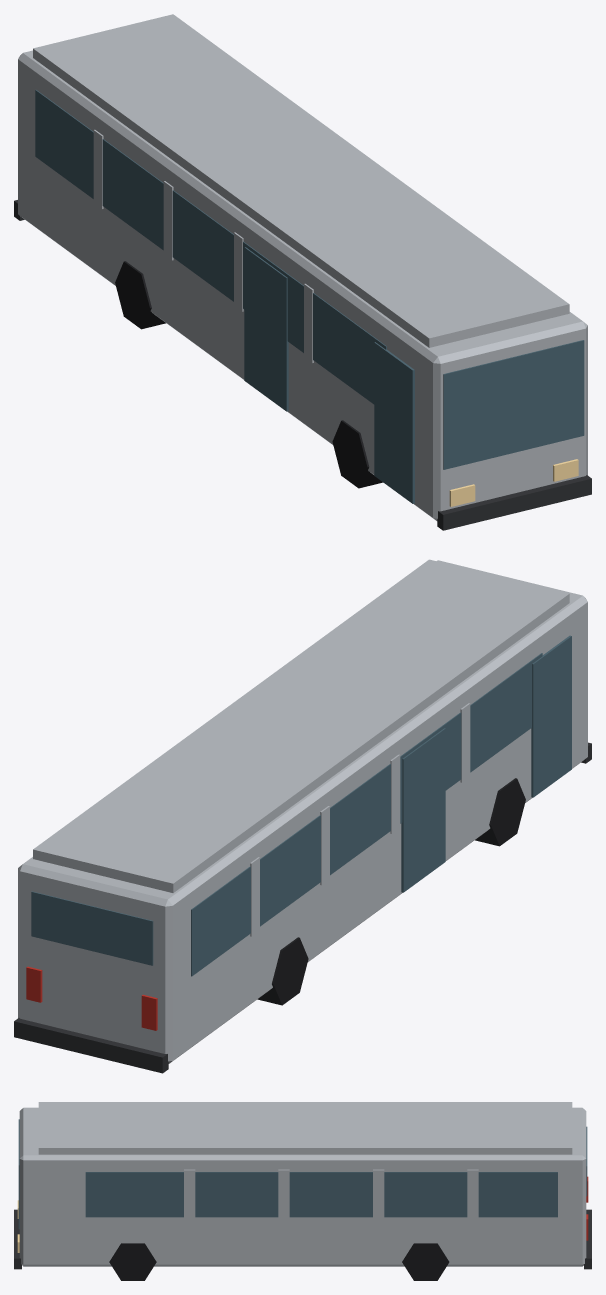
Rendered from bus-ambient.glb.
3 views of the same model, one above another, from view 1: azimuth 30°, elevation 25°; view 2: azimuth 150°, elevation 25°; view 3: azimuth 270°, elevation 25° (orthographic). The views are drawn at different scales.
Visible parts, largest first — view 1: bus-ambient-0, bus-ambient-1, bus-ambient-5, bus-ambient-4, bus-ambient-2; view 2: bus-ambient-0, bus-ambient-1, bus-ambient-5, bus-ambient-4, bus-ambient-3; view 3: bus-ambient-0, bus-ambient-1, bus-ambient-5, bus-ambient-4.
Boxes of the visible parts, box(x1,y1,x2,y2) form: bus-ambient-0: box(18, 14, 587, 520); bus-ambient-1: box(35, 90, 584, 503); bus-ambient-5: box(115, 261, 382, 488); bus-ambient-4: box(14, 200, 591, 530); bus-ambient-2: box(449, 459, 578, 506); bus-ambient-0: box(18, 559, 587, 1063); bus-ambient-1: box(31, 635, 571, 976); bus-ambient-5: box(257, 778, 525, 1005); bus-ambient-4: box(14, 742, 591, 1073); bus-ambient-3: box(26, 966, 157, 1030); bus-ambient-0: box(19, 1102, 586, 1266); bus-ambient-1: box(18, 1119, 587, 1229); bus-ambient-5: box(109, 1243, 449, 1280); bus-ambient-4: box(14, 1209, 591, 1269).
Size of the model in its own units: 2.61 by 3.03 by 12.24.
